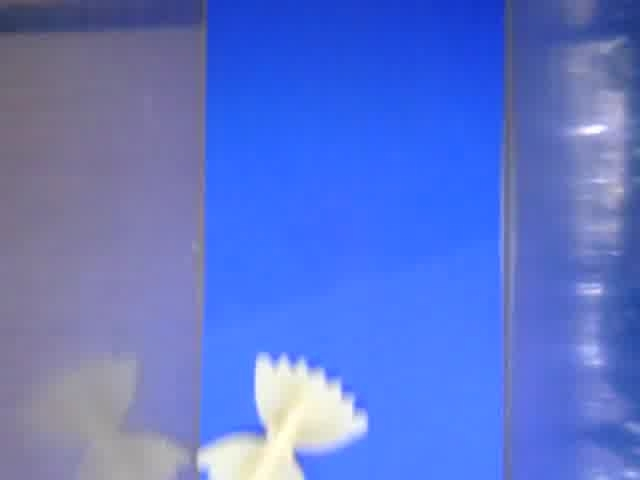farfalle: (198, 354, 368, 480)
